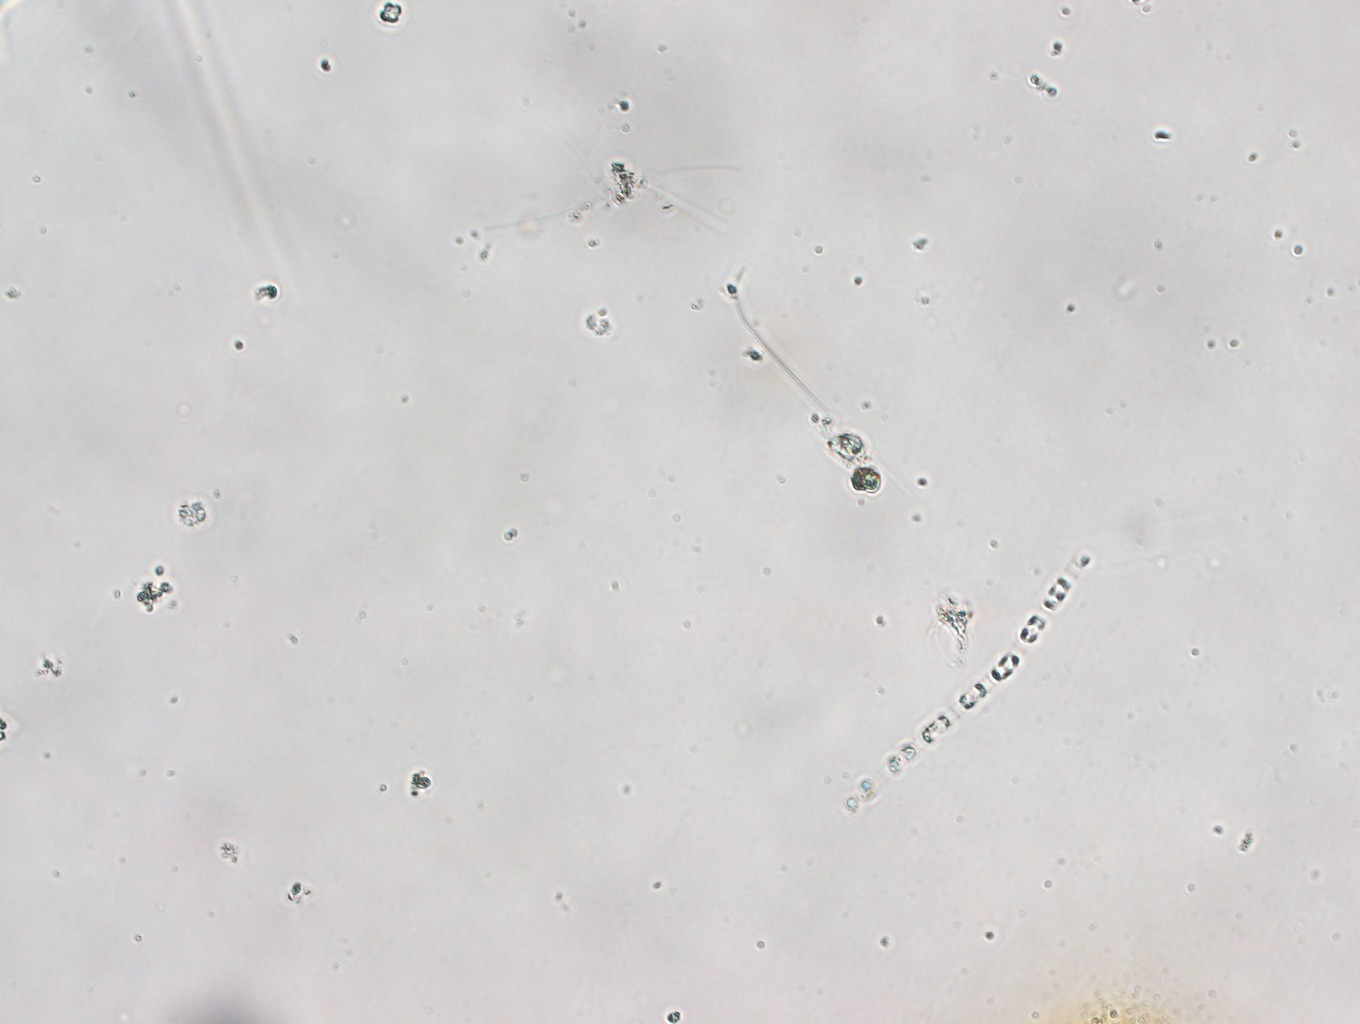skeletonema: (818, 536, 1097, 822)
